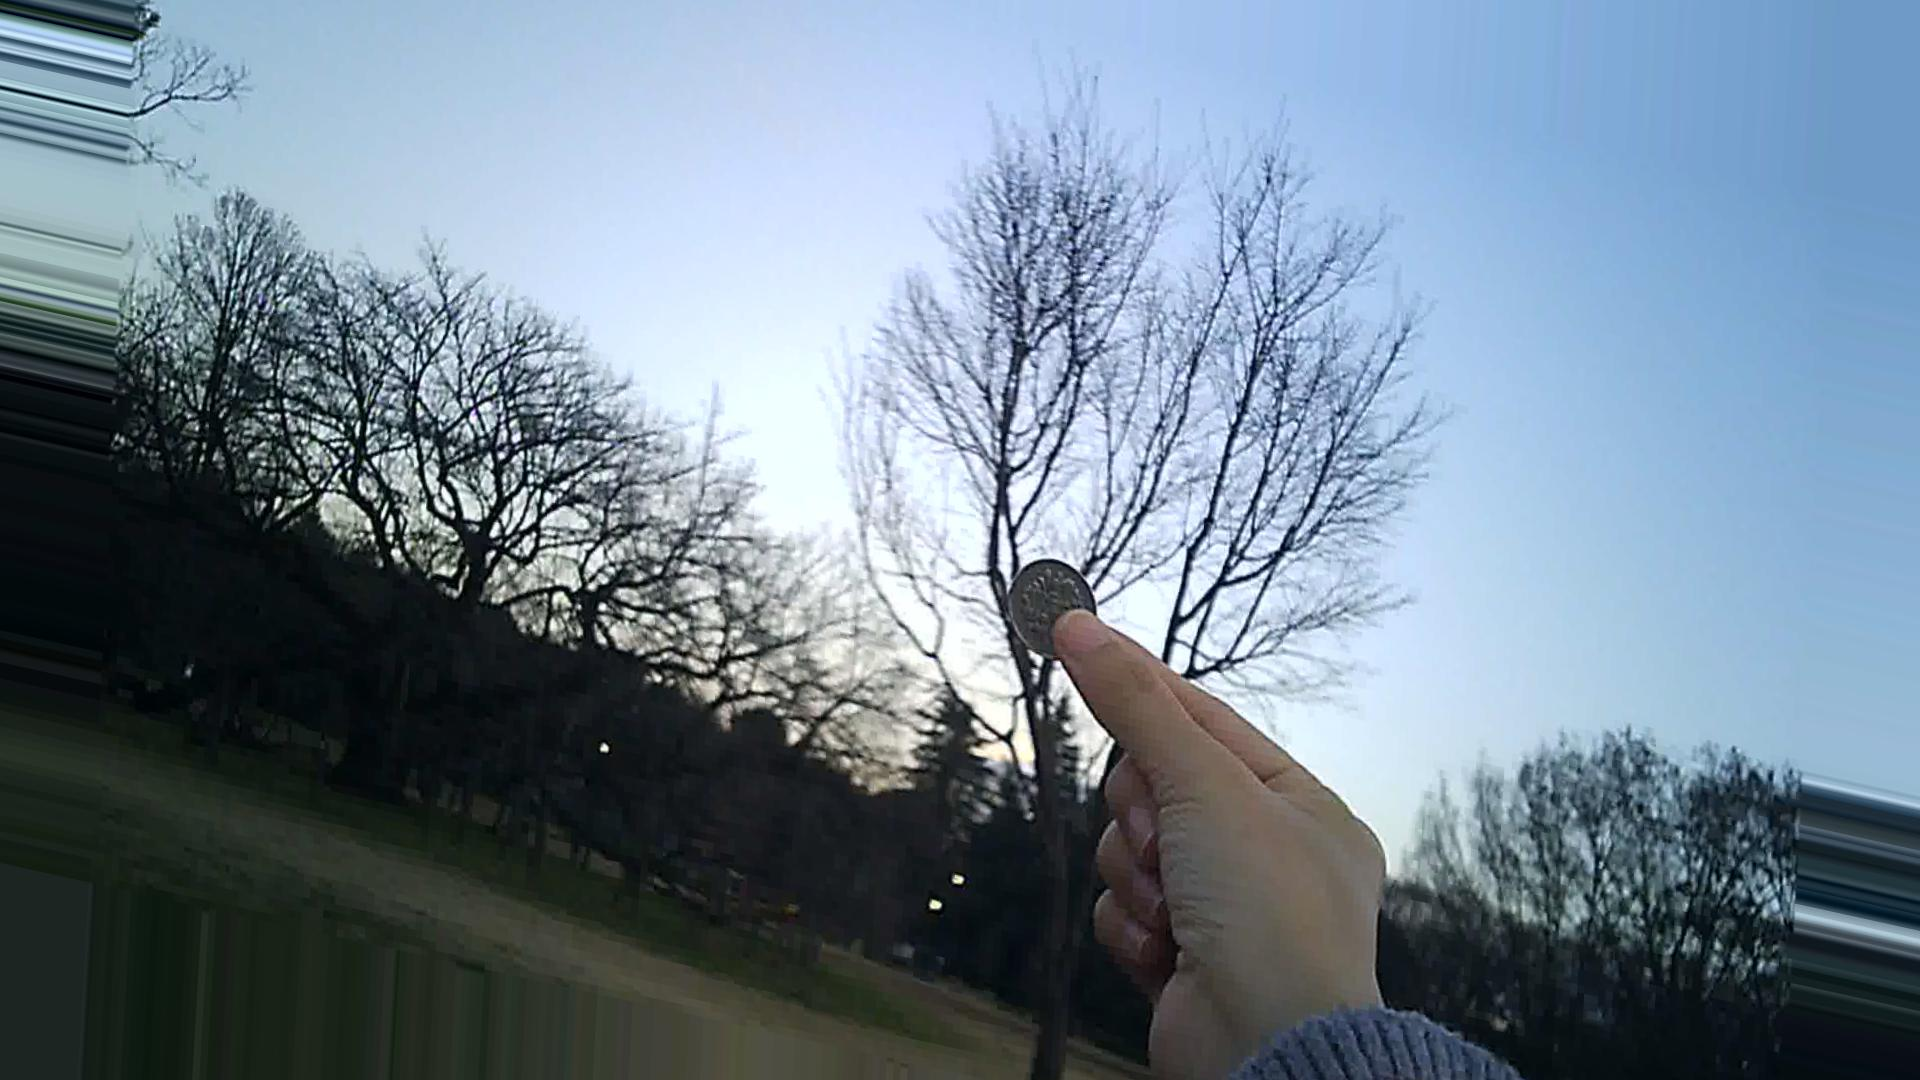100 Yen: (1009, 551, 1102, 669)
